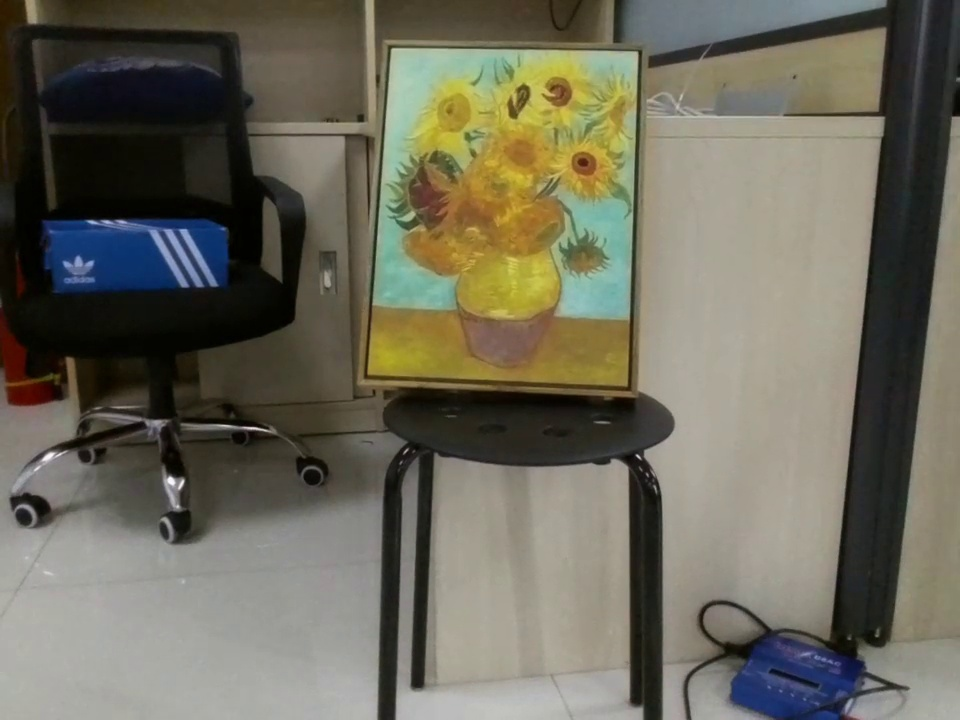painting: (367, 42, 653, 400)
